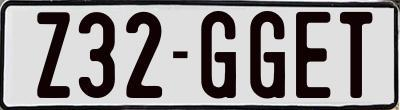2: (126, 9, 167, 98)
3: (78, 12, 117, 104)
E: (296, 10, 334, 96)
G: (201, 9, 238, 99), (248, 10, 285, 98)
T: (337, 10, 372, 102)
Z: (37, 10, 71, 99)
